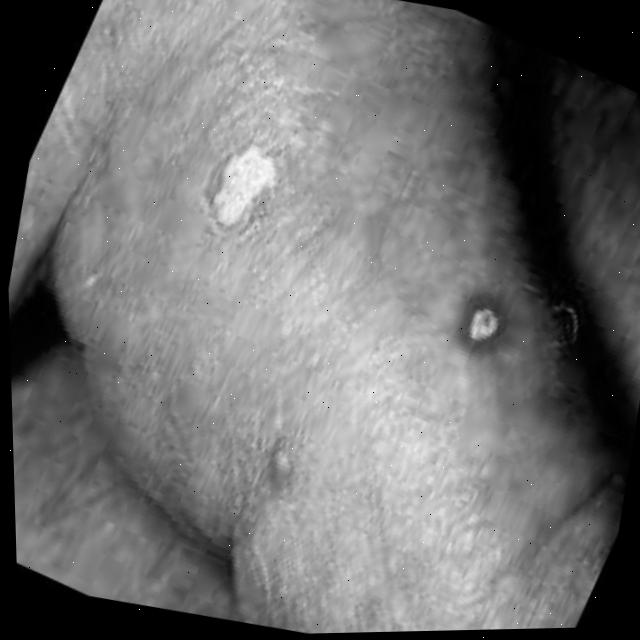Eczema: (180, 413, 337, 546), (185, 114, 302, 267), (457, 291, 498, 349)
